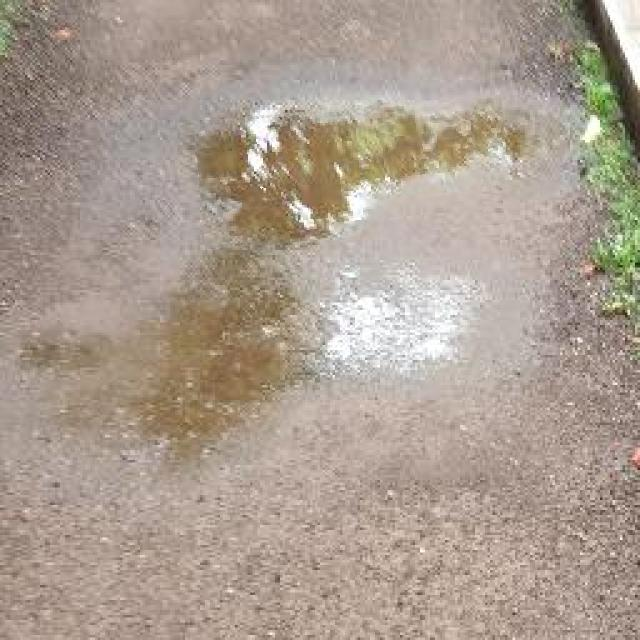puddle: (198, 101, 511, 244)
